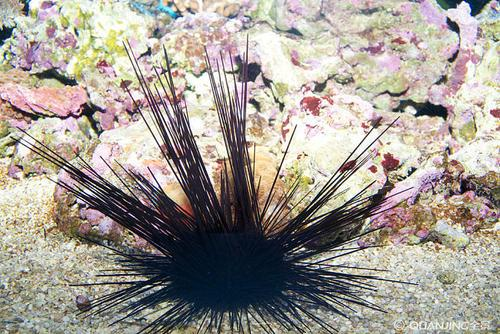urchin: (40, 49, 399, 330)
